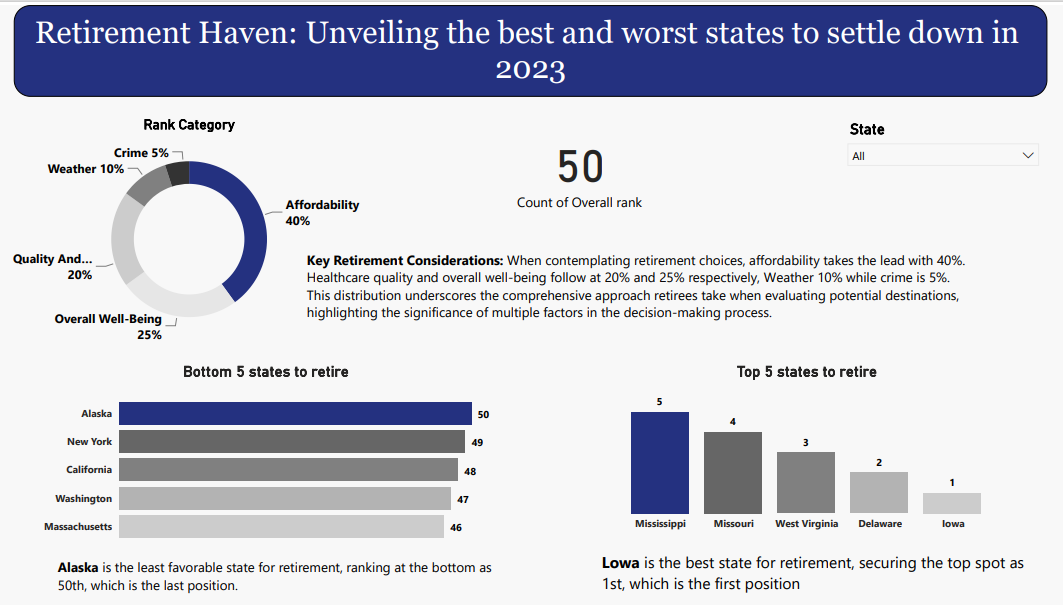

The dashboard page shown, as its layout file describes it:
{"tool":"powerbi","page":{"name":"Retirement Analysis Dashboard","canvas":[1280,720],"ordinal":0},"visuals":[{"type":"donutChart","title":"Rank Category","fields":{"Category":["Category and Percentage.Category"],"Y":["Sum(Category and Percentage.Percentage)"]},"box":[18.6,132.9,421.4,277.1],"z":0},{"type":"card","fields":{"Values":["Count(Places_to_retire.Overall rank)"]},"box":[542.9,132.9,311.4,128.6],"z":1000},{"type":"columnChart","title":"Top 5  states to retire","fields":{"Category":["Places_to_retire.State"],"Y":["Sum(Places_to_retire.Overall rank)"]},"box":[720,428.6,502.9,211.4],"z":2000},{"type":"clusteredBarChart","title":"Bottom 5 states to retire","fields":{"Category":["Places_to_retire.State"],"Y":["Sum(Places_to_retire.Overall rank)"]},"box":[48.6,428.6,545.7,230],"z":3000},{"type":"textbox","box":[18.6,0,1241.4,110],"z":4000},{"type":"slicer","fields":{"Values":["Places_to_retire.State"]},"box":[1010,132.9,250,108.6],"z":5000},{"type":"textbox","box":[365.7,290,804.3,138.6],"z":6000},{"type":"textbox","box":[67.1,658.6,540,61.4],"z":7000},{"type":"textbox","box":[720,651.4,540,61.4],"z":8000}]}

Visuals, with their boxes in screenshot pixels (x1, y1, x2, y2), scaled from the page's 1280x720 canvas onto the 1063x609 screenshot:
"Rank Category" donutChart: 15/112/365/347
card - Count(Places_to_retire.Overall rank): 451/112/709/221
"Top 5  states to retire" columnChart: 598/363/1016/541
"Bottom 5 states to retire" clusteredBarChart: 40/363/494/557
textbox: 15/0/1046/93
slicer - Places_to_retire.State: 839/112/1046/204
textbox: 304/245/972/363
textbox: 56/557/504/608
textbox: 598/551/1046/603
